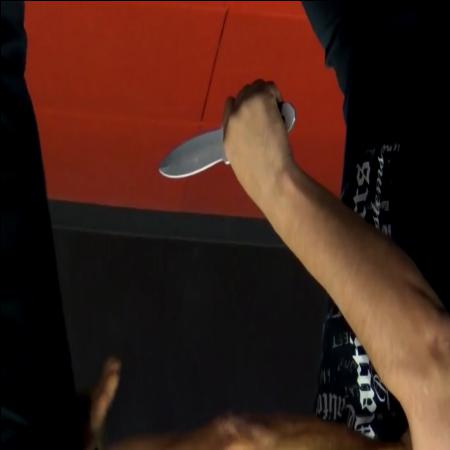long weapon: (154, 77, 299, 189)
